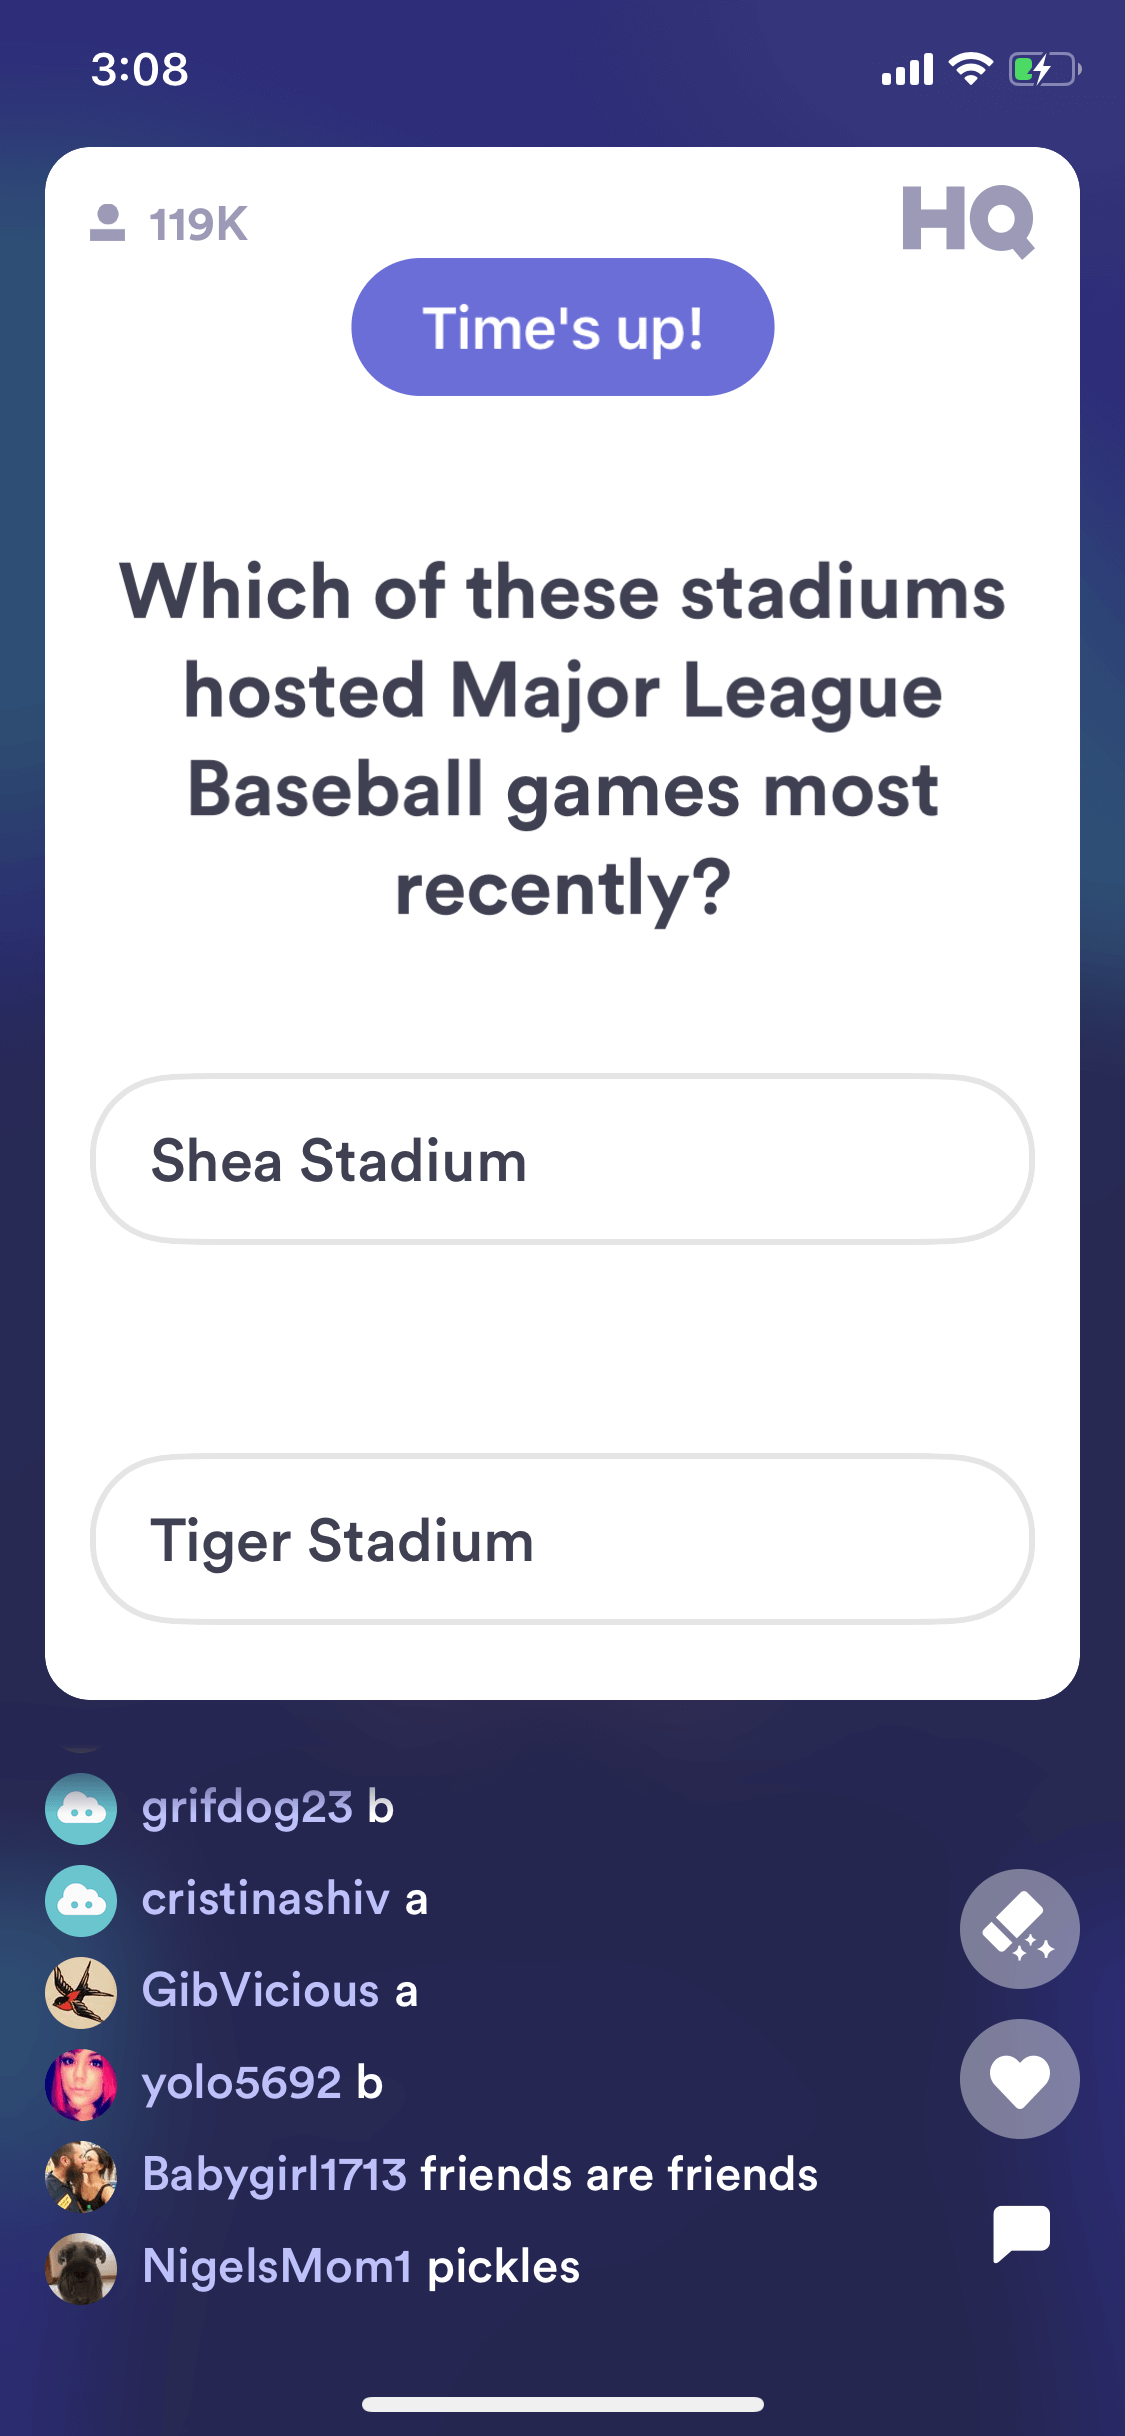Buttons: (90, 1060, 1040, 1260), (89, 1453, 1040, 1636), (340, 256, 778, 405)
FAB (Floating Action Button): (953, 2010, 1092, 2149), (953, 1861, 1095, 1993), (953, 2173, 1092, 2293)
